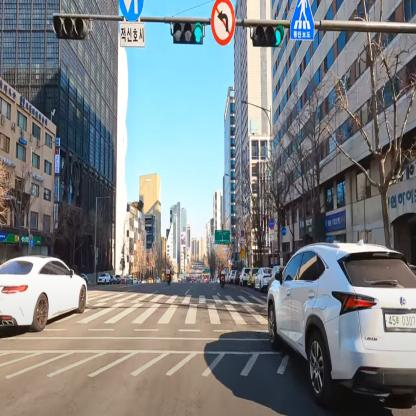Green: (251, 22, 284, 47), (171, 22, 204, 44)
